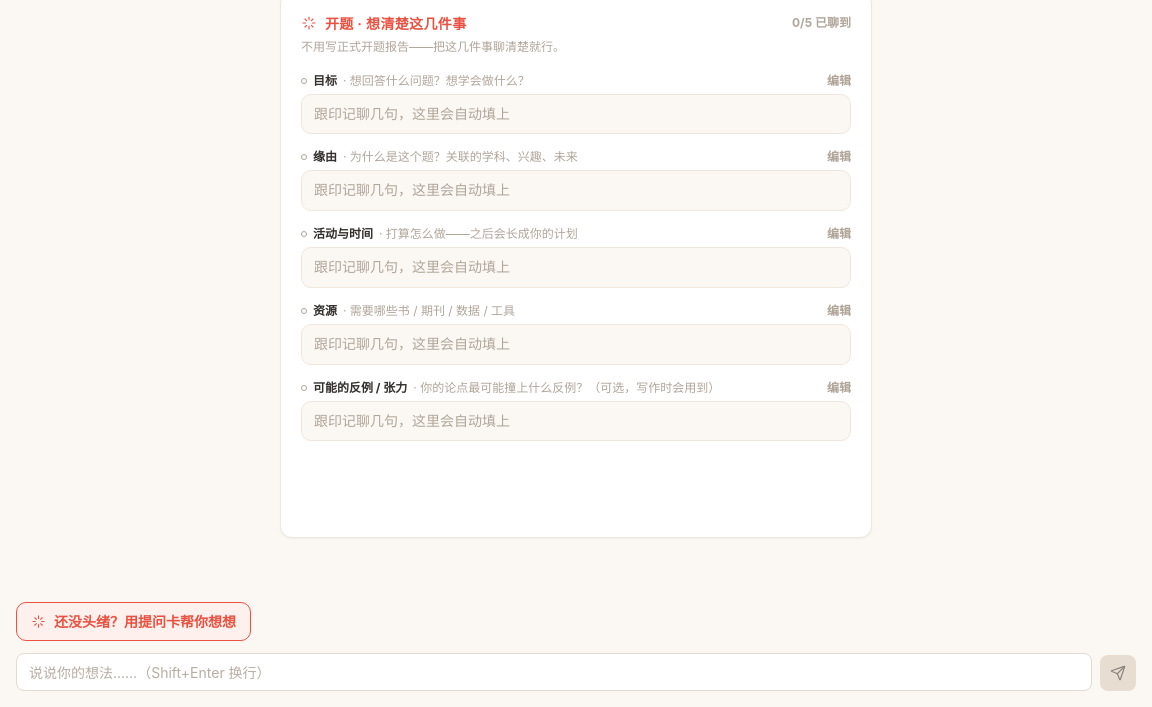
Test: PlanBlock · forming coach on the shared AiPanel (Task 5) › sends a message through the shared Composer via the container-owned send loop
The width and height of the screenshot is (1152, 707).
(page scrolled)
Type "我想研究中国的碳排放" into the text box with placeholder "说说你的想法……（Shift+Enter 换行）". click: x=554, y=672
box: [16, 653, 1092, 691]
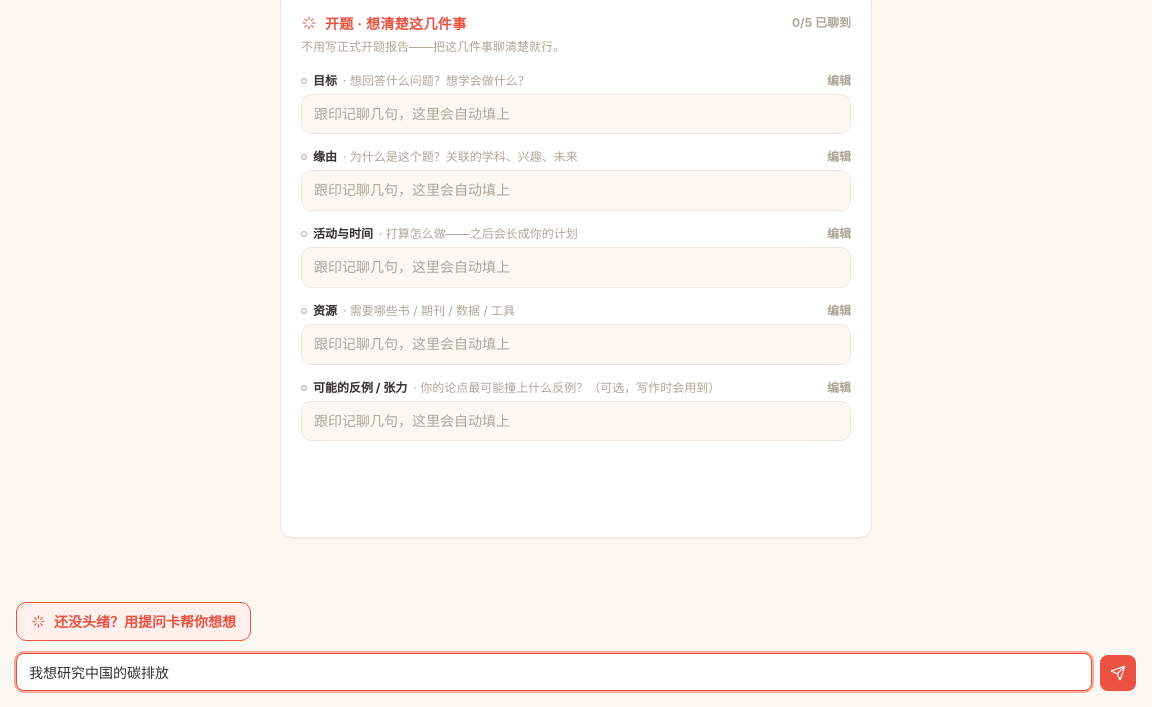
Click the button named "发送". click: x=1118, y=673
box: [1100, 655, 1136, 691]
(page scrolled)
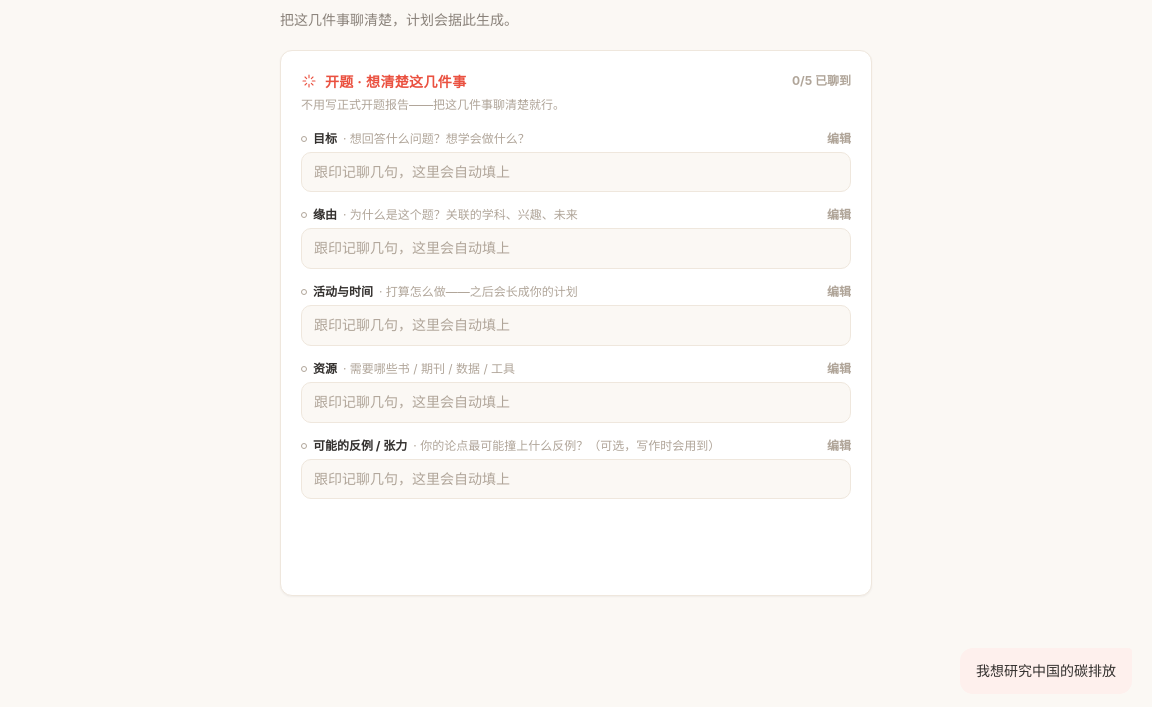
Expected: the text "我想研究中国的碳排放" is shown, [976, 662, 1116, 679]
